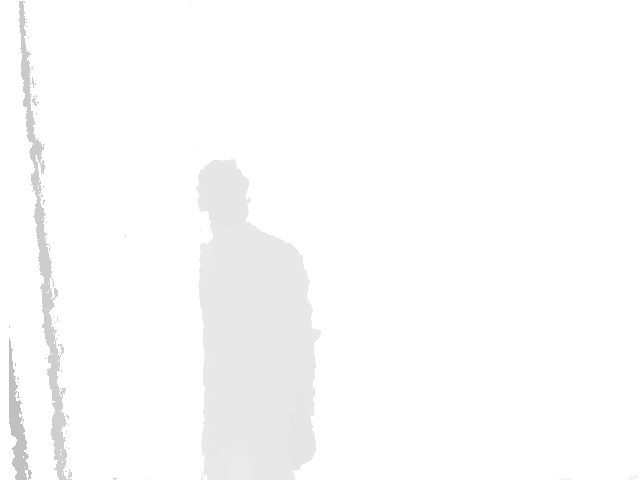head: (196, 159, 252, 229)
person: (196, 158, 323, 480)
